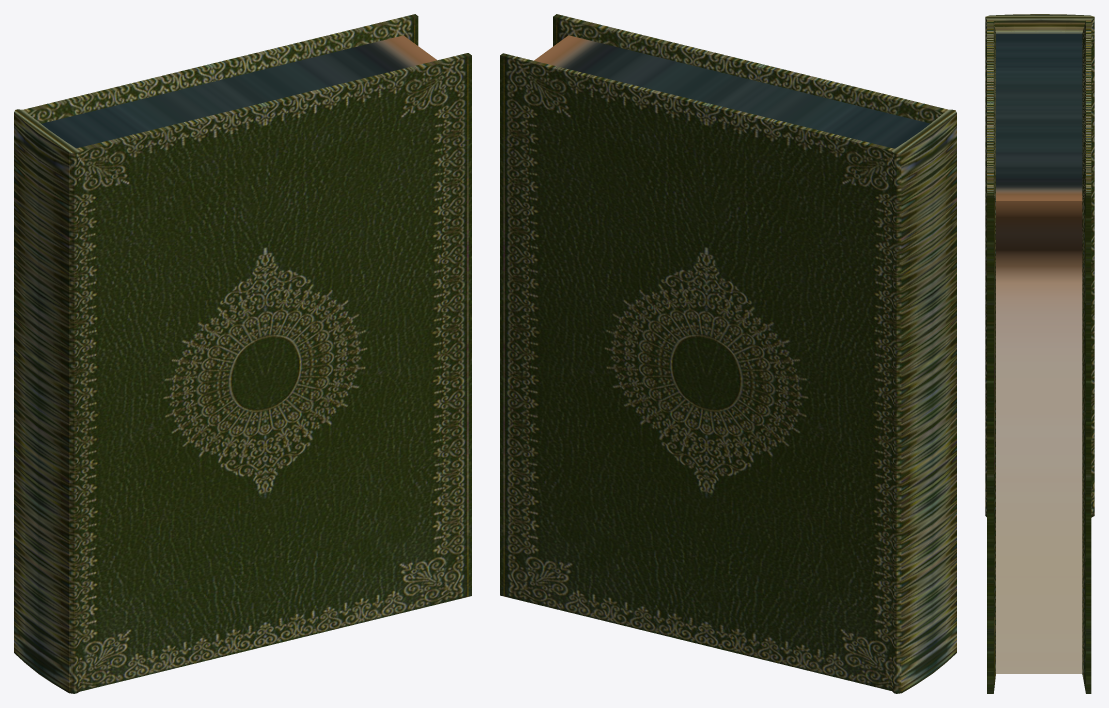
File: book7.fbx
3 renders of one model, left to right at view 1: azimuth 30°, elevation 25°; view 2: azimuth 150°, elevation 25°; view 3: azimuth 270°, elevation 25°, orthographic. The views are drawn at different scales.
Visible parts, largest first — view 1: Cube; view 2: Cube; view 3: Cube.
Part boxes in pixels (x1,y1,x2,y2): Cube: [14, 14, 471, 693]; Cube: [500, 14, 956, 693]; Cube: [985, 14, 1094, 693].
Bounding box in the file's own units: 7.81 × 9.97 × 1.98.
Materials: 2 (2 with a texture image).
